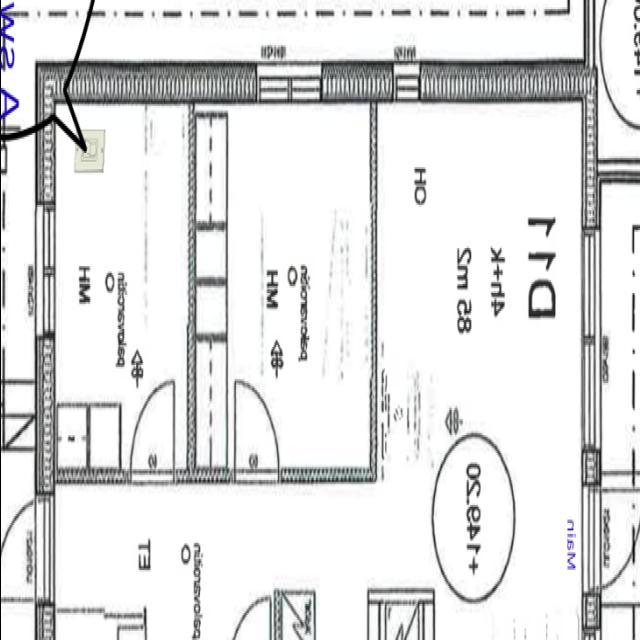main: (567, 442, 640, 626)
switch: (71, 122, 109, 176)
wall: (30, 56, 262, 114), (413, 52, 607, 114), (575, 58, 605, 237), (32, 328, 60, 504), (319, 52, 398, 114), (31, 56, 58, 214)
